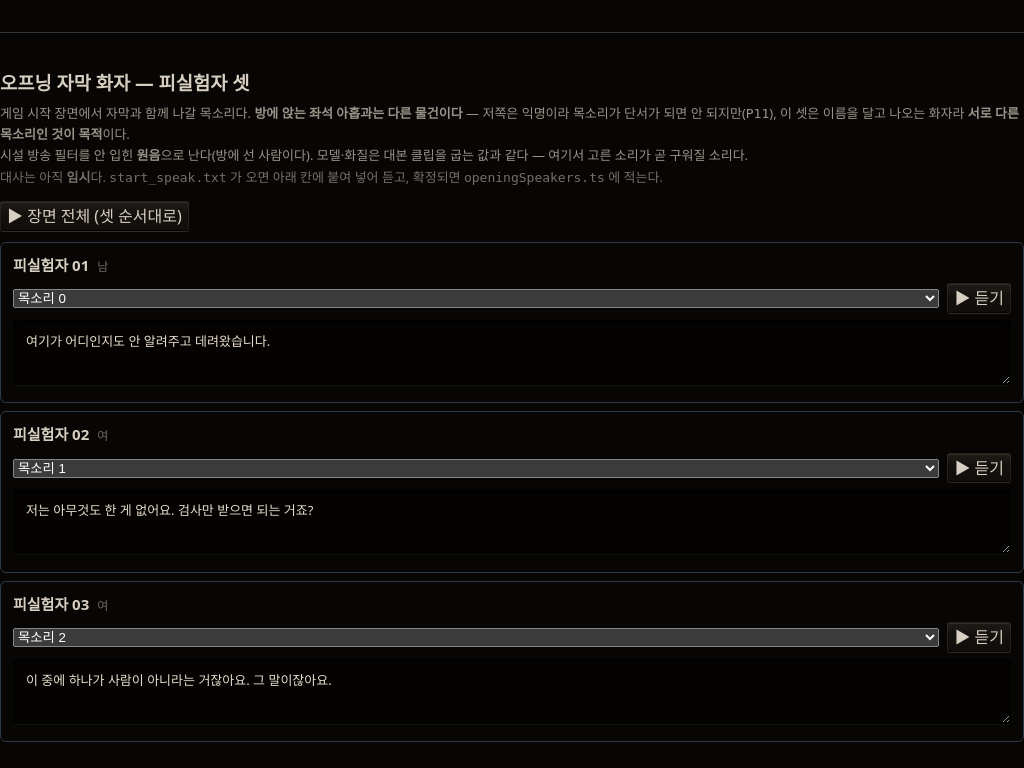
Test case: 오프닝 화자 칸 › 기본과 다르게 고르면 어디에 적을지 알려준다 — 환경 변수가 아니라 소스다
The width and height of the screenshot is (1024, 768).
Expected: the text "기본과 다르게 골랐다" is not shown
Select "목소리 2" in the dropdown below "피실험자 01" at (476,299), box [13,289,939,308]
(page scrolled)
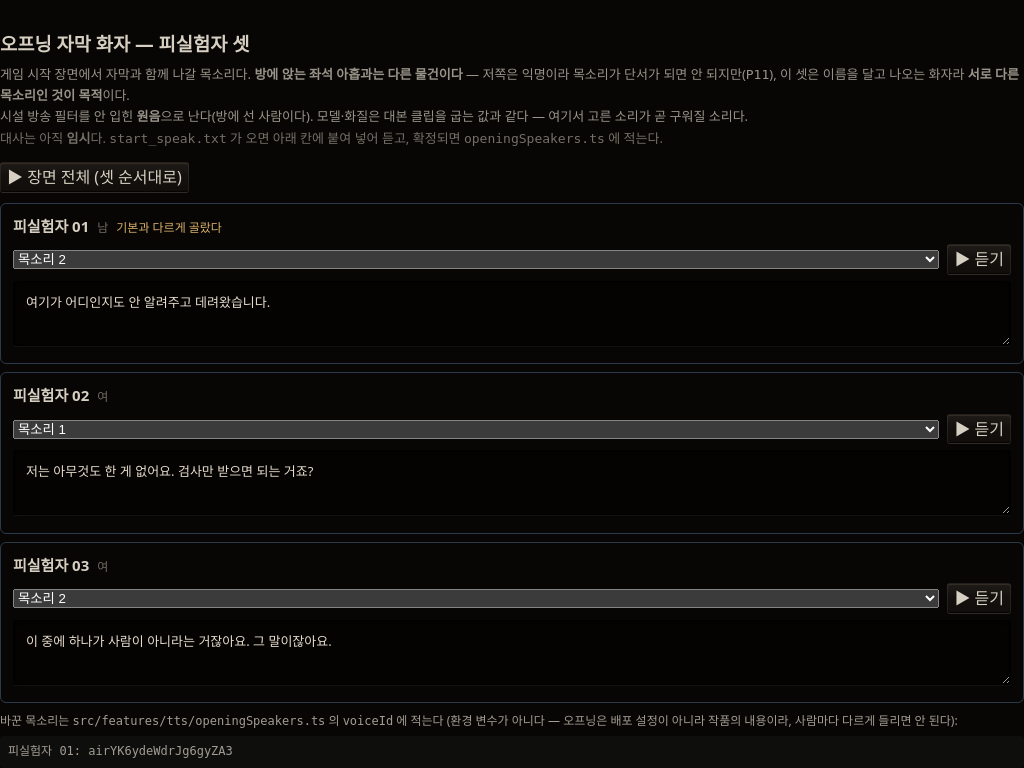
Result: the text "기본과 다르게 골랐다" is shown at [116,218,222,238]
